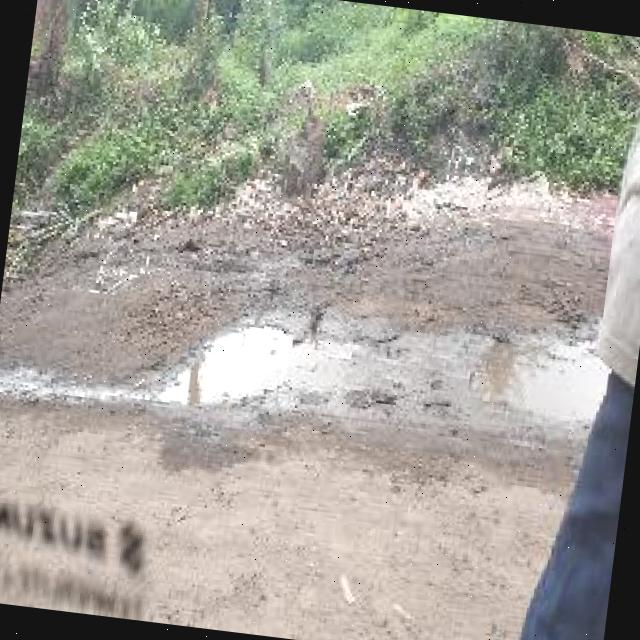stagnation: (174, 298, 598, 460)
